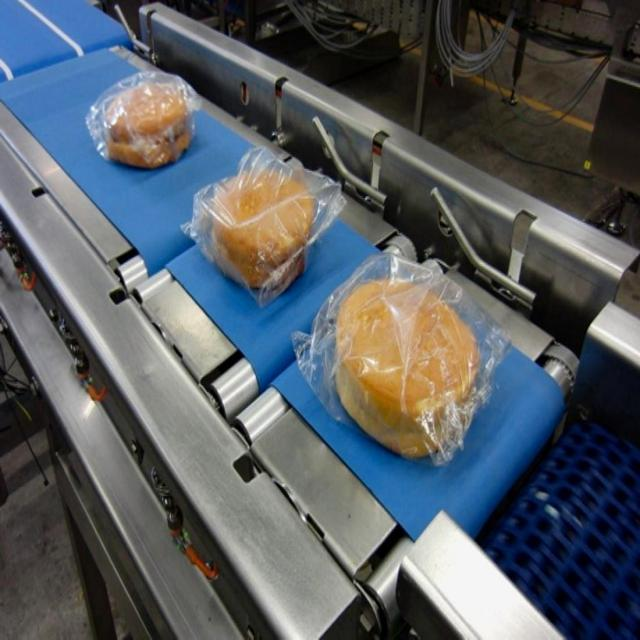food: (307, 258, 497, 462), (184, 136, 336, 296), (89, 66, 194, 158)
